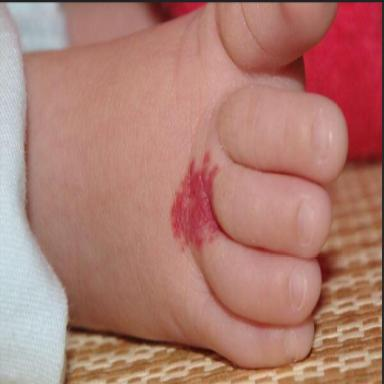Hemangiome: (171, 161, 219, 246)
